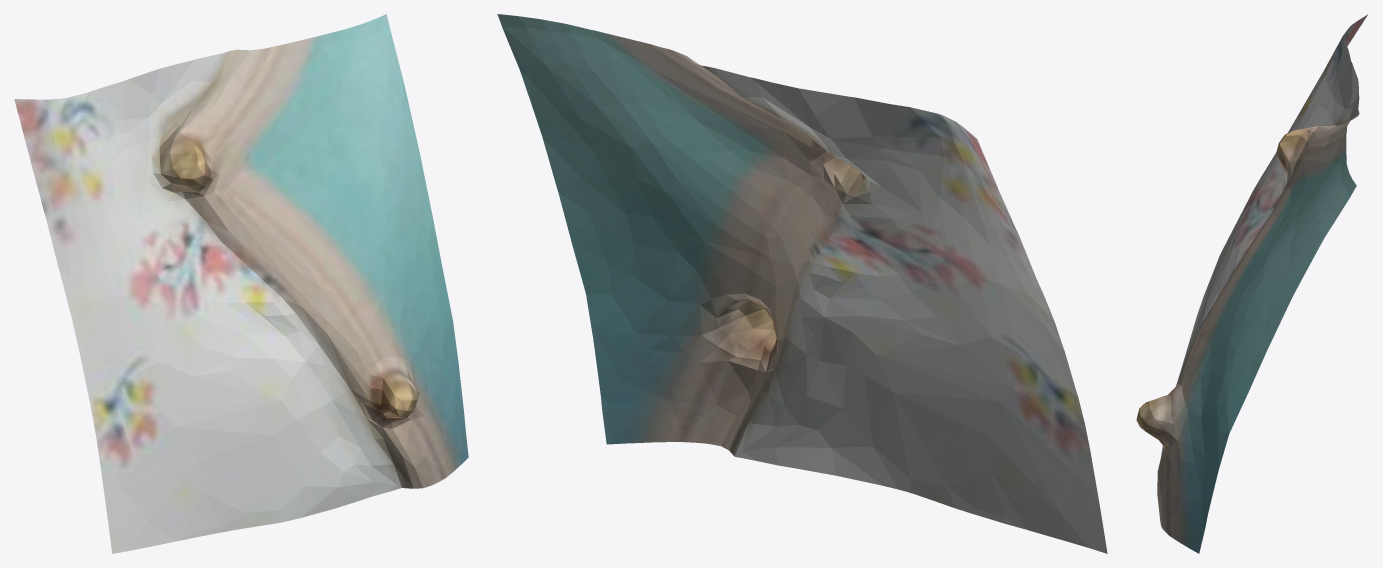
3 views of the same model, side by side, from view 1: azimuth 30°, elevation 25°; view 2: azimuth 150°, elevation 25°; view 3: azimuth 270°, elevation 25° (orthographic). The views are drawn at different scales.
Visible parts, largest first — view 1: 091_W_Aya_100K_01; view 2: 091_W_Aya_100K_01; view 3: 091_W_Aya_100K_01.
Boxes of the visible parts, x1,y1,x2,y2 form: 091_W_Aya_100K_01: (14, 14, 468, 553); 091_W_Aya_100K_01: (497, 14, 1107, 553); 091_W_Aya_100K_01: (1136, 14, 1367, 553).
Bounding box in the file's own units: 85.74 × 85.74 × 48.99.
1 material, 1 textured.
